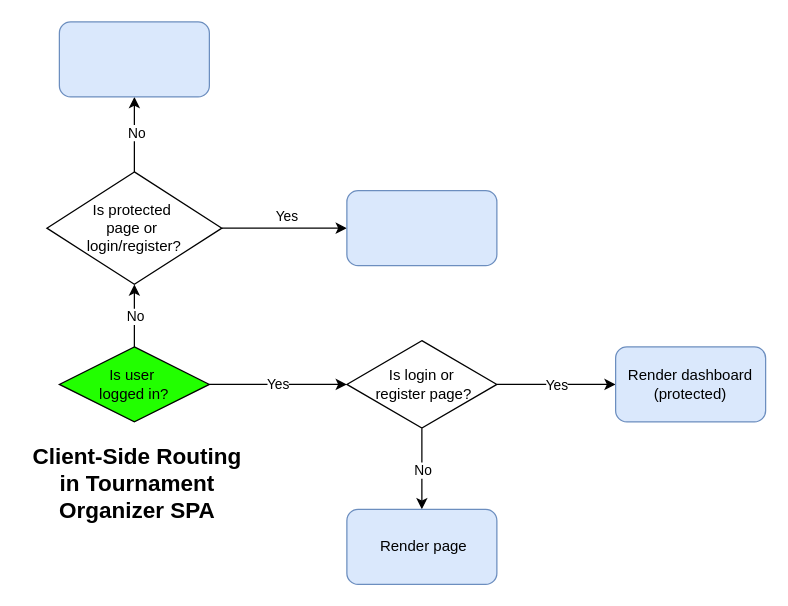
Image size: 788x606. Some labels were removed from this diagram. Each missing label, with the centre of its shape:
"Render login or register page" goes at (421,227).
"Render page (public)" goes at (133,59).
